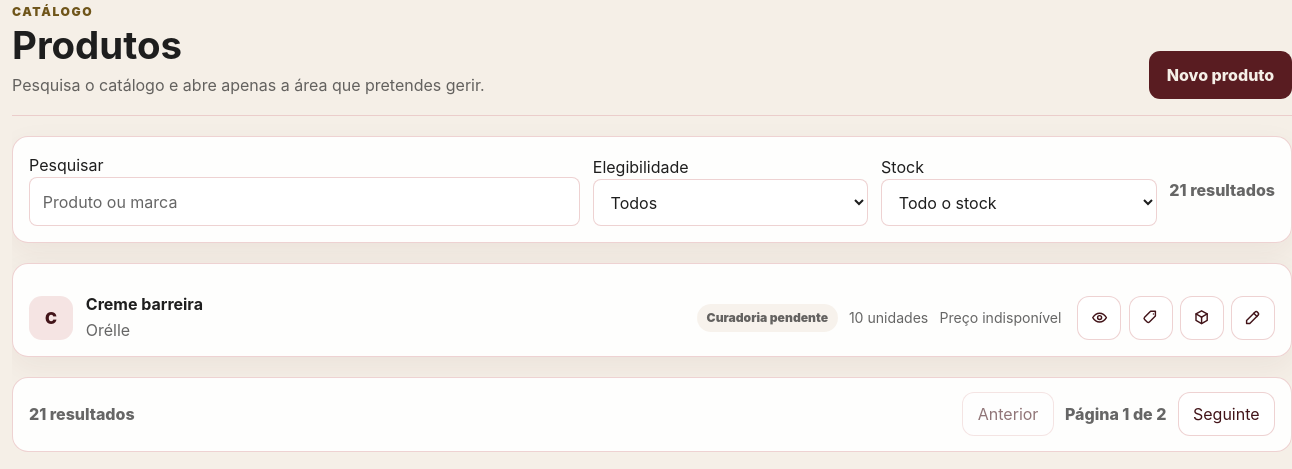
navega entre páginas através do contrato remoto
Click the button "Seguinte" at {"x": 1226, "y": 414}, box x1=1178 y1=392 x2=1275 y2=436
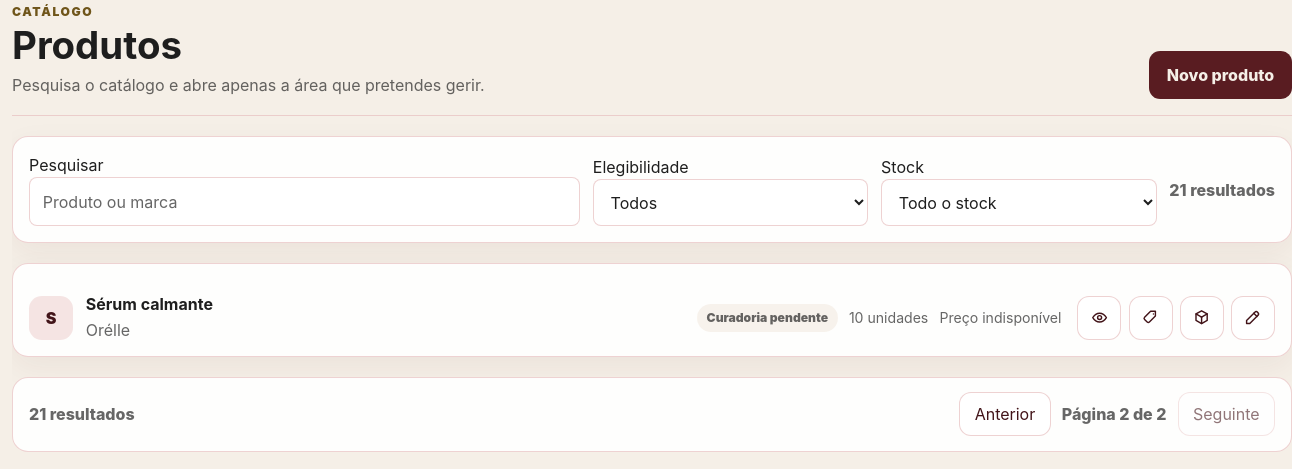
Result: the heading "Sérum calmante" is shown at x1=86 y1=294 x2=213 y2=314
